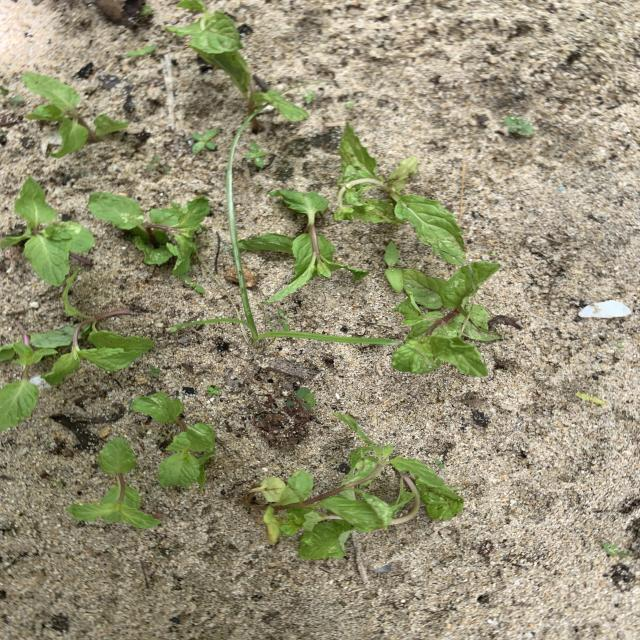crop: (253, 414, 462, 559), (335, 126, 465, 264), (167, 1, 307, 123), (245, 190, 366, 303), (394, 259, 501, 375), (89, 194, 209, 282), (33, 299, 154, 383), (1, 178, 94, 285), (23, 73, 127, 158), (69, 436, 161, 527), (132, 393, 214, 486)
weed: (170, 123, 393, 344), (384, 242, 403, 291), (192, 128, 218, 154), (288, 387, 315, 411), (244, 141, 267, 168), (125, 44, 156, 59), (603, 541, 633, 556), (148, 157, 170, 174), (576, 392, 604, 403), (147, 365, 162, 378), (207, 385, 219, 395)
